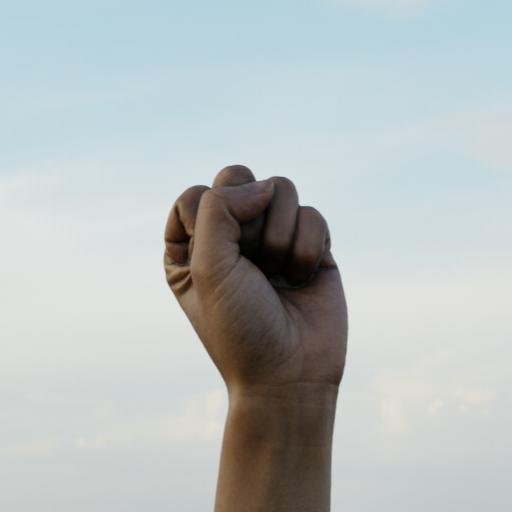S: (147, 152, 364, 422)
